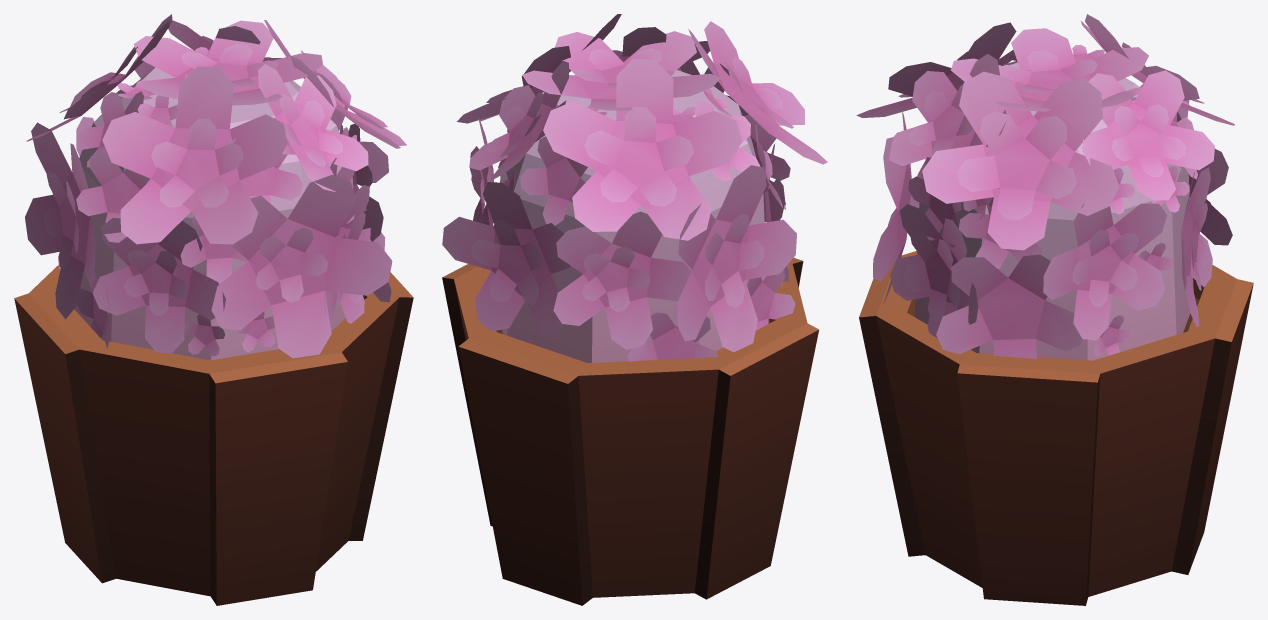
File: farmpack2023flowerpotpinkflowers.fbx
3 renders of one model, left to right at view 1: azimuth 30°, elevation 25°; view 2: azimuth 150°, elevation 25°; view 3: azimuth 270°, elevation 25°, orthographic.
Visible parts, largest first — view 1: Cylinder.013; view 2: Cylinder.013; view 3: Cylinder.013.
Boxes of the visible parts, x1,y1,x2,y2 form: Cylinder.013: (14,14,413,605); Cylinder.013: (442,14,827,605); Cylinder.013: (856,14,1253,605).
Size of the model in its own units: 1.09 by 1.07 by 1.55.
